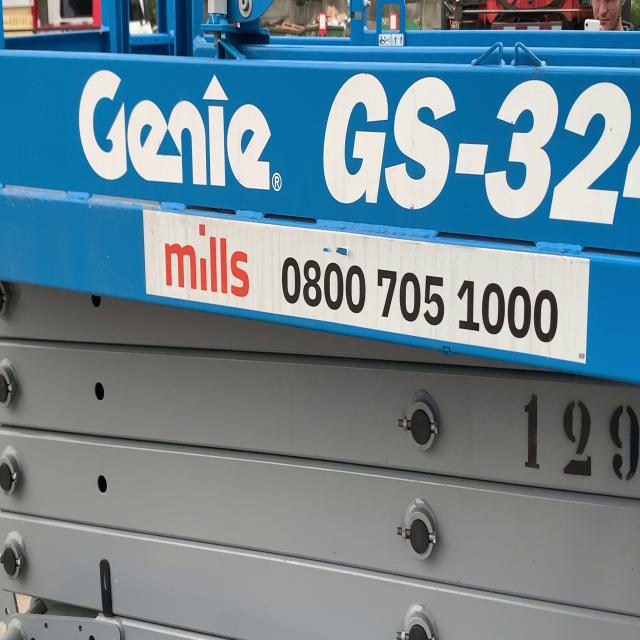Adesivo Longo: (141, 205, 595, 370)
